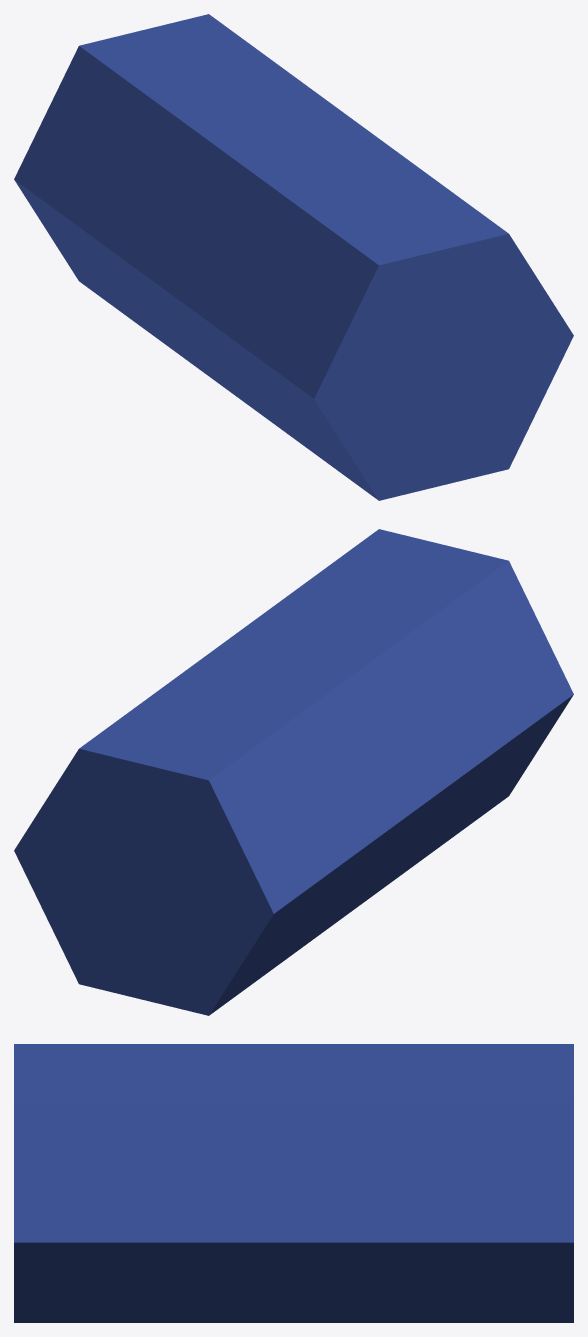
3 views of the same model, one above another, from view 1: azimuth 30°, elevation 25°; view 2: azimuth 150°, elevation 25°; view 3: azimuth 270°, elevation 25° (orthographic). The views are drawn at different scales.
Visible parts, largest first — view 1: group_3888547; view 2: group_3888547; view 3: group_3888547.
Boxes of the visible parts, x1,y1,x2,y2 form: group_3888547: (14, 14, 573, 500); group_3888547: (14, 529, 573, 1015); group_3888547: (14, 1044, 573, 1322).
Bounding box in the file's own units: 20 × 17.32 × 40.
